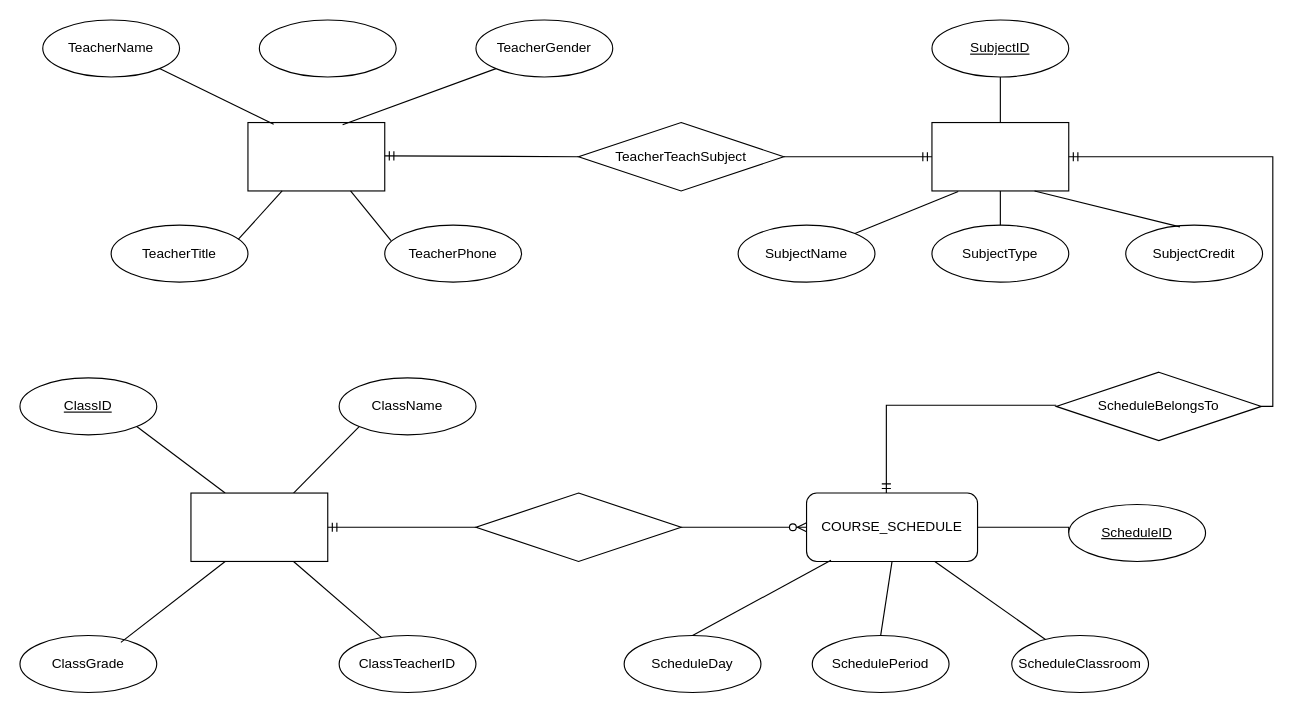
The diagram is 1302 pixels wide and 713 high, and some of its shapes have lost their labels. Each missing label, with the box of its shape:
CLASS: (190, 492, 328, 561)
ClassHasSchedule: (475, 492, 681, 561)
SUBJECT: (931, 121, 1069, 191)
TEACHER: (247, 121, 385, 191)
TeacherID: (258, 19, 396, 77)
